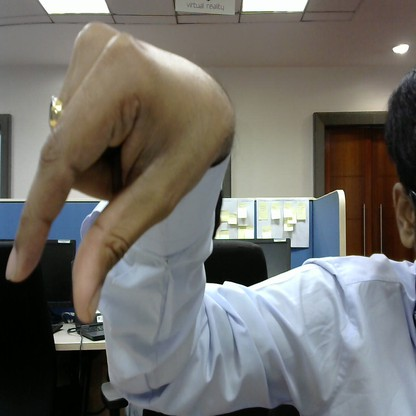q: (4, 20, 238, 327)
